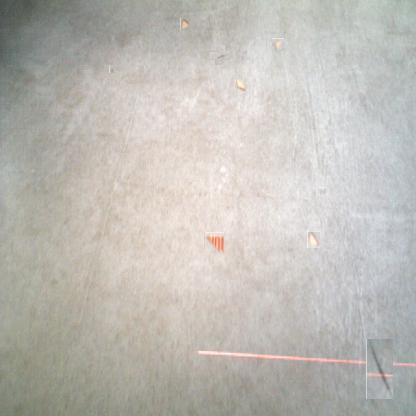dirty: (204, 232, 224, 253), (307, 231, 320, 248), (272, 39, 285, 51), (235, 79, 247, 91), (180, 18, 189, 30)
mark: (366, 339, 393, 399), (213, 48, 228, 62), (292, 146, 298, 164), (318, 187, 326, 196), (109, 65, 114, 73)
